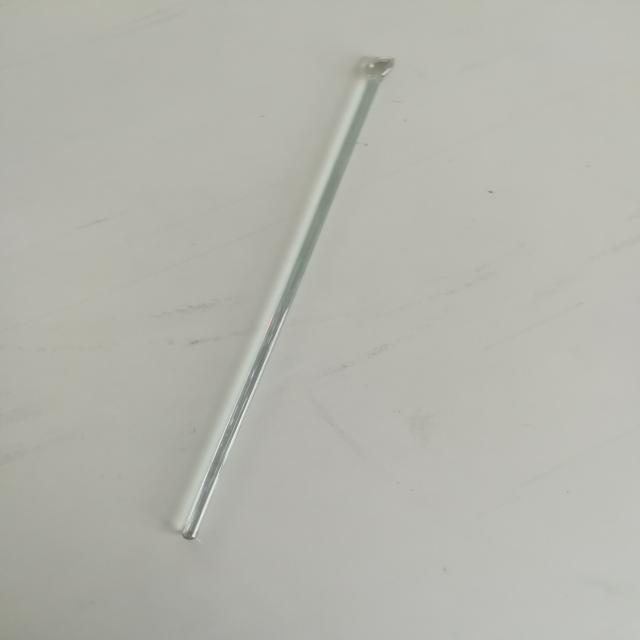Glass_Rod: (147, 31, 390, 574)
